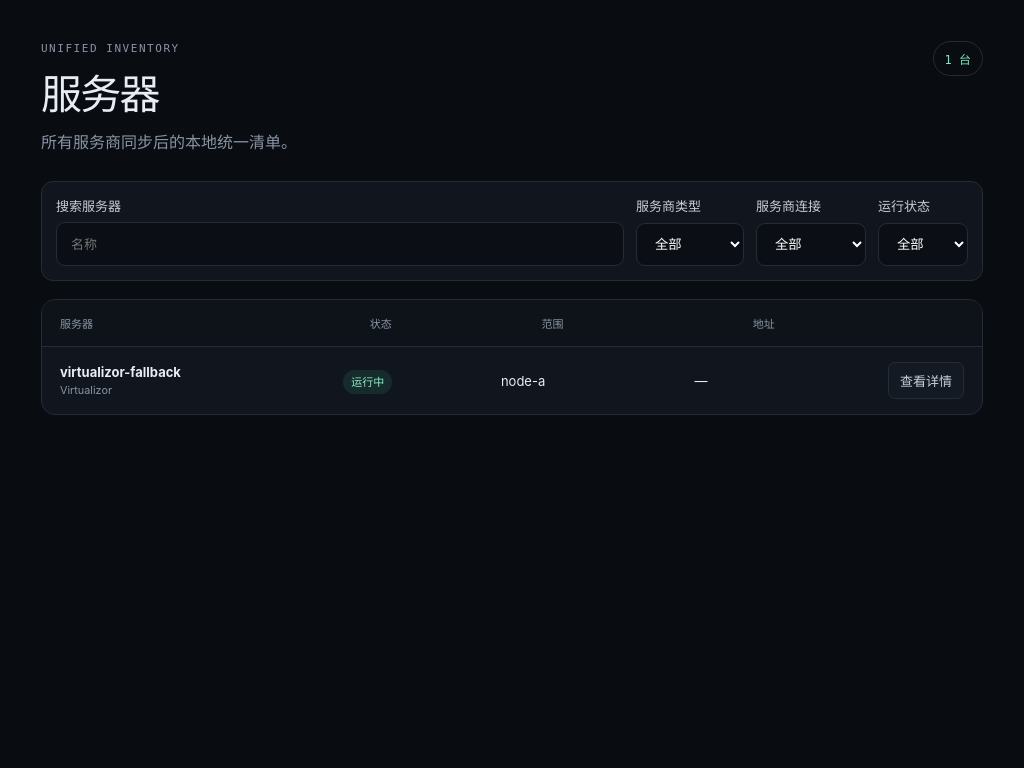
Test: keeps the Virtualizor provider portal available when both VNC modes are unavailable
Click the button with aria-label "查看 virtualizor-fallback".
click(926, 381)  # box x1=888 y1=362 x2=964 y2=399
(page scrolled)
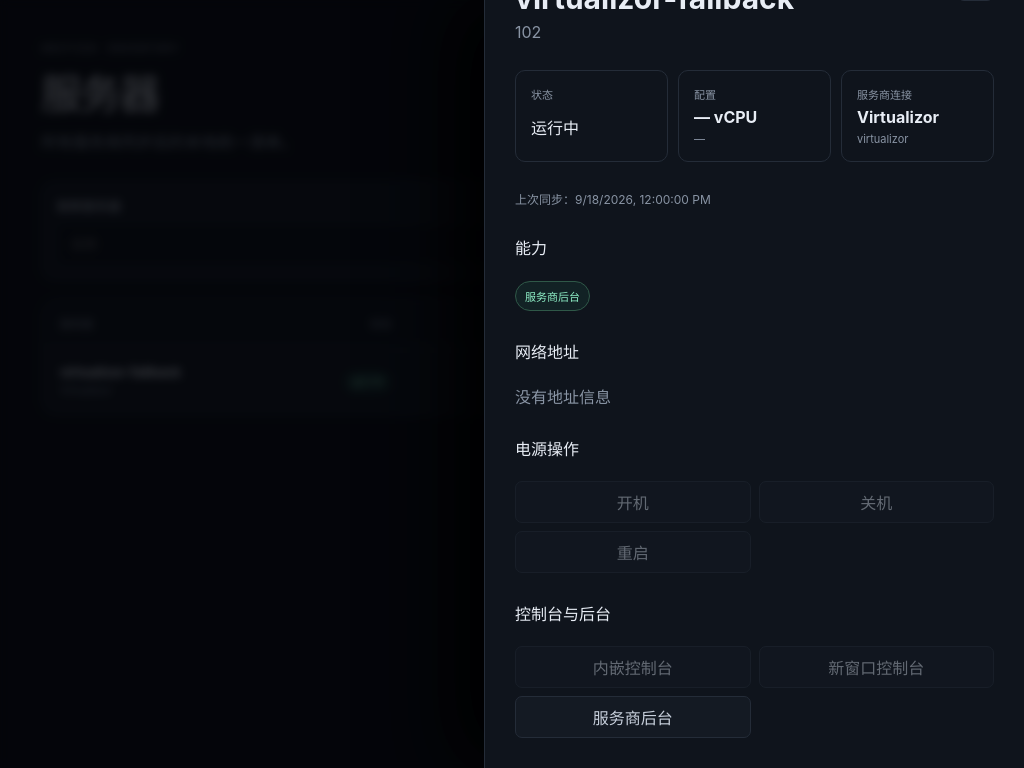
Check: the button "内嵌控制台" is disabled, box x1=515 y1=646 x2=750 y2=688
Check: the button "新窗口控制台" is disabled, box x1=758 y1=646 x2=994 y2=688
Check: the button "服务商后台" is enabled, box x1=515 y1=696 x2=750 y2=738
